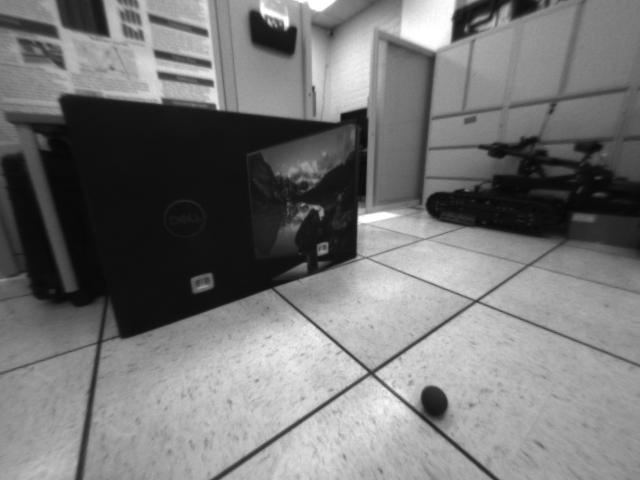dogtoy: (416, 379, 452, 423)
